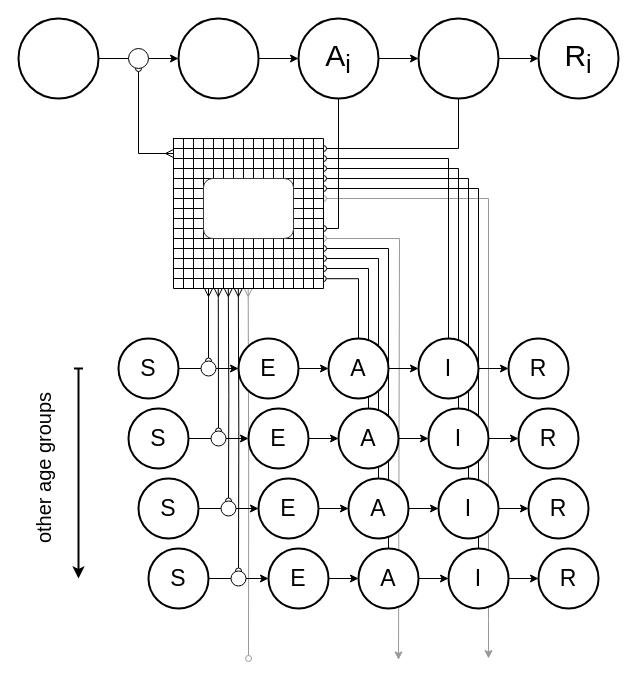
Image size: 636x686. Some labels were removed from this diagram. Here are the shapes that lost their labels. From the top down, the box of each, then its label:
(17, 17, 99, 99): S i
(177, 17, 259, 99): E i
(417, 17, 499, 99): I i
(202, 178, 294, 238): contact matrix
